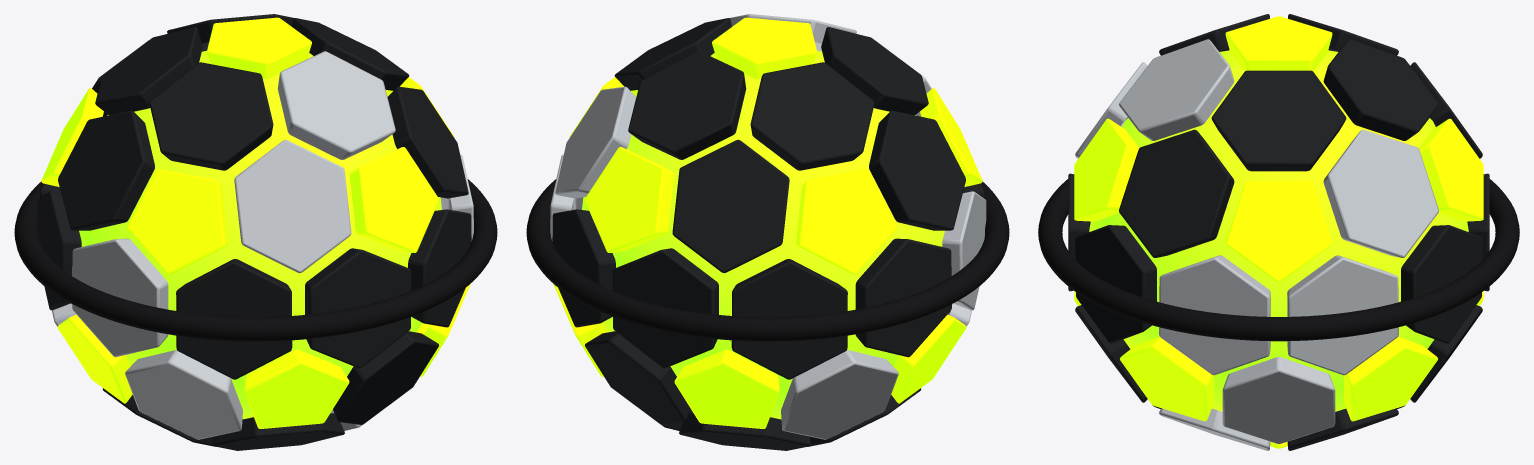
The model's file is player_core.glb.
3 views of the same model, side by side, from view 1: azimuth 30°, elevation 25°; view 2: azimuth 150°, elevation 25°; view 3: azimuth 270°, elevation 25° (orthographic).
Visible parts, largest first — view 1: player_core; view 2: player_core; view 3: player_core.
Boxes of the visible parts, x1,y1,x2,y2 form: player_core: [14, 14, 497, 450]; player_core: [526, 14, 1009, 450]; player_core: [1038, 14, 1519, 450].
Size of the model in its own units: 2.18 by 1.93 by 2.18.
